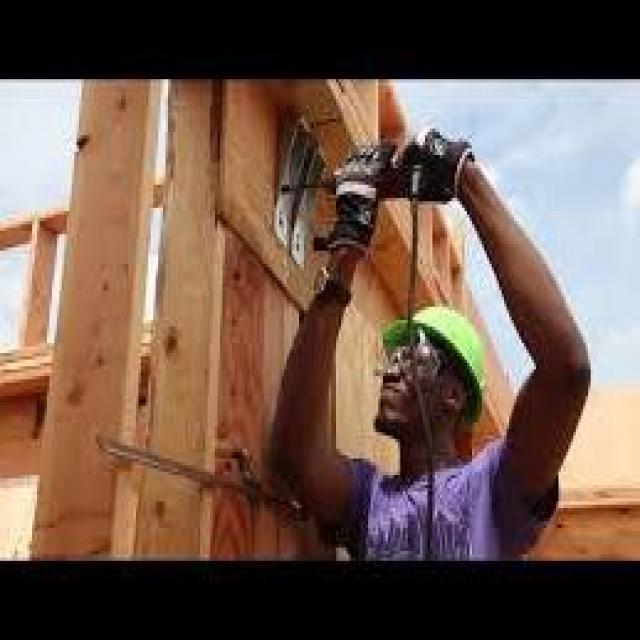Safety-Helmet: (363, 287, 512, 409)
